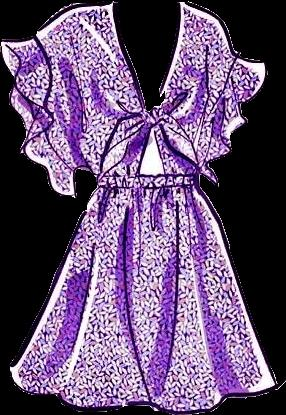Bodice: (61, 0, 215, 188)
Hemline: (8, 364, 278, 414)
Neckline: (112, 0, 183, 111), (137, 122, 169, 176), (94, 170, 199, 178)
Skirt: (10, 186, 277, 414)
Sleeve: (1, 9, 93, 197), (200, 15, 264, 184)
Sleeveline: (59, 10, 97, 169), (36, 35, 77, 170), (197, 52, 239, 167), (196, 15, 217, 168)
Waistline: (95, 183, 199, 190)
